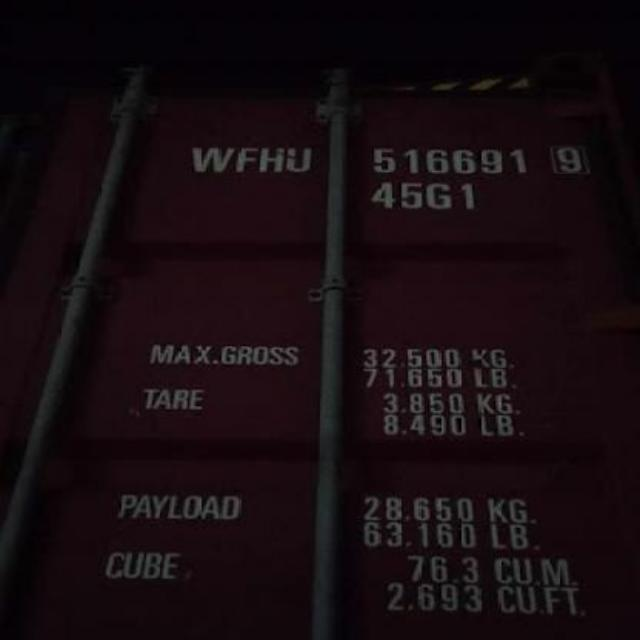1: (508, 144, 534, 178), (401, 144, 422, 176)
5: (370, 144, 398, 176)
6: (422, 145, 452, 175), (452, 144, 478, 176)
9: (474, 144, 504, 176), (552, 145, 584, 175)
F: (230, 142, 256, 176)
H: (262, 142, 288, 178)
U: (284, 142, 314, 174)
W: (186, 142, 232, 174)
